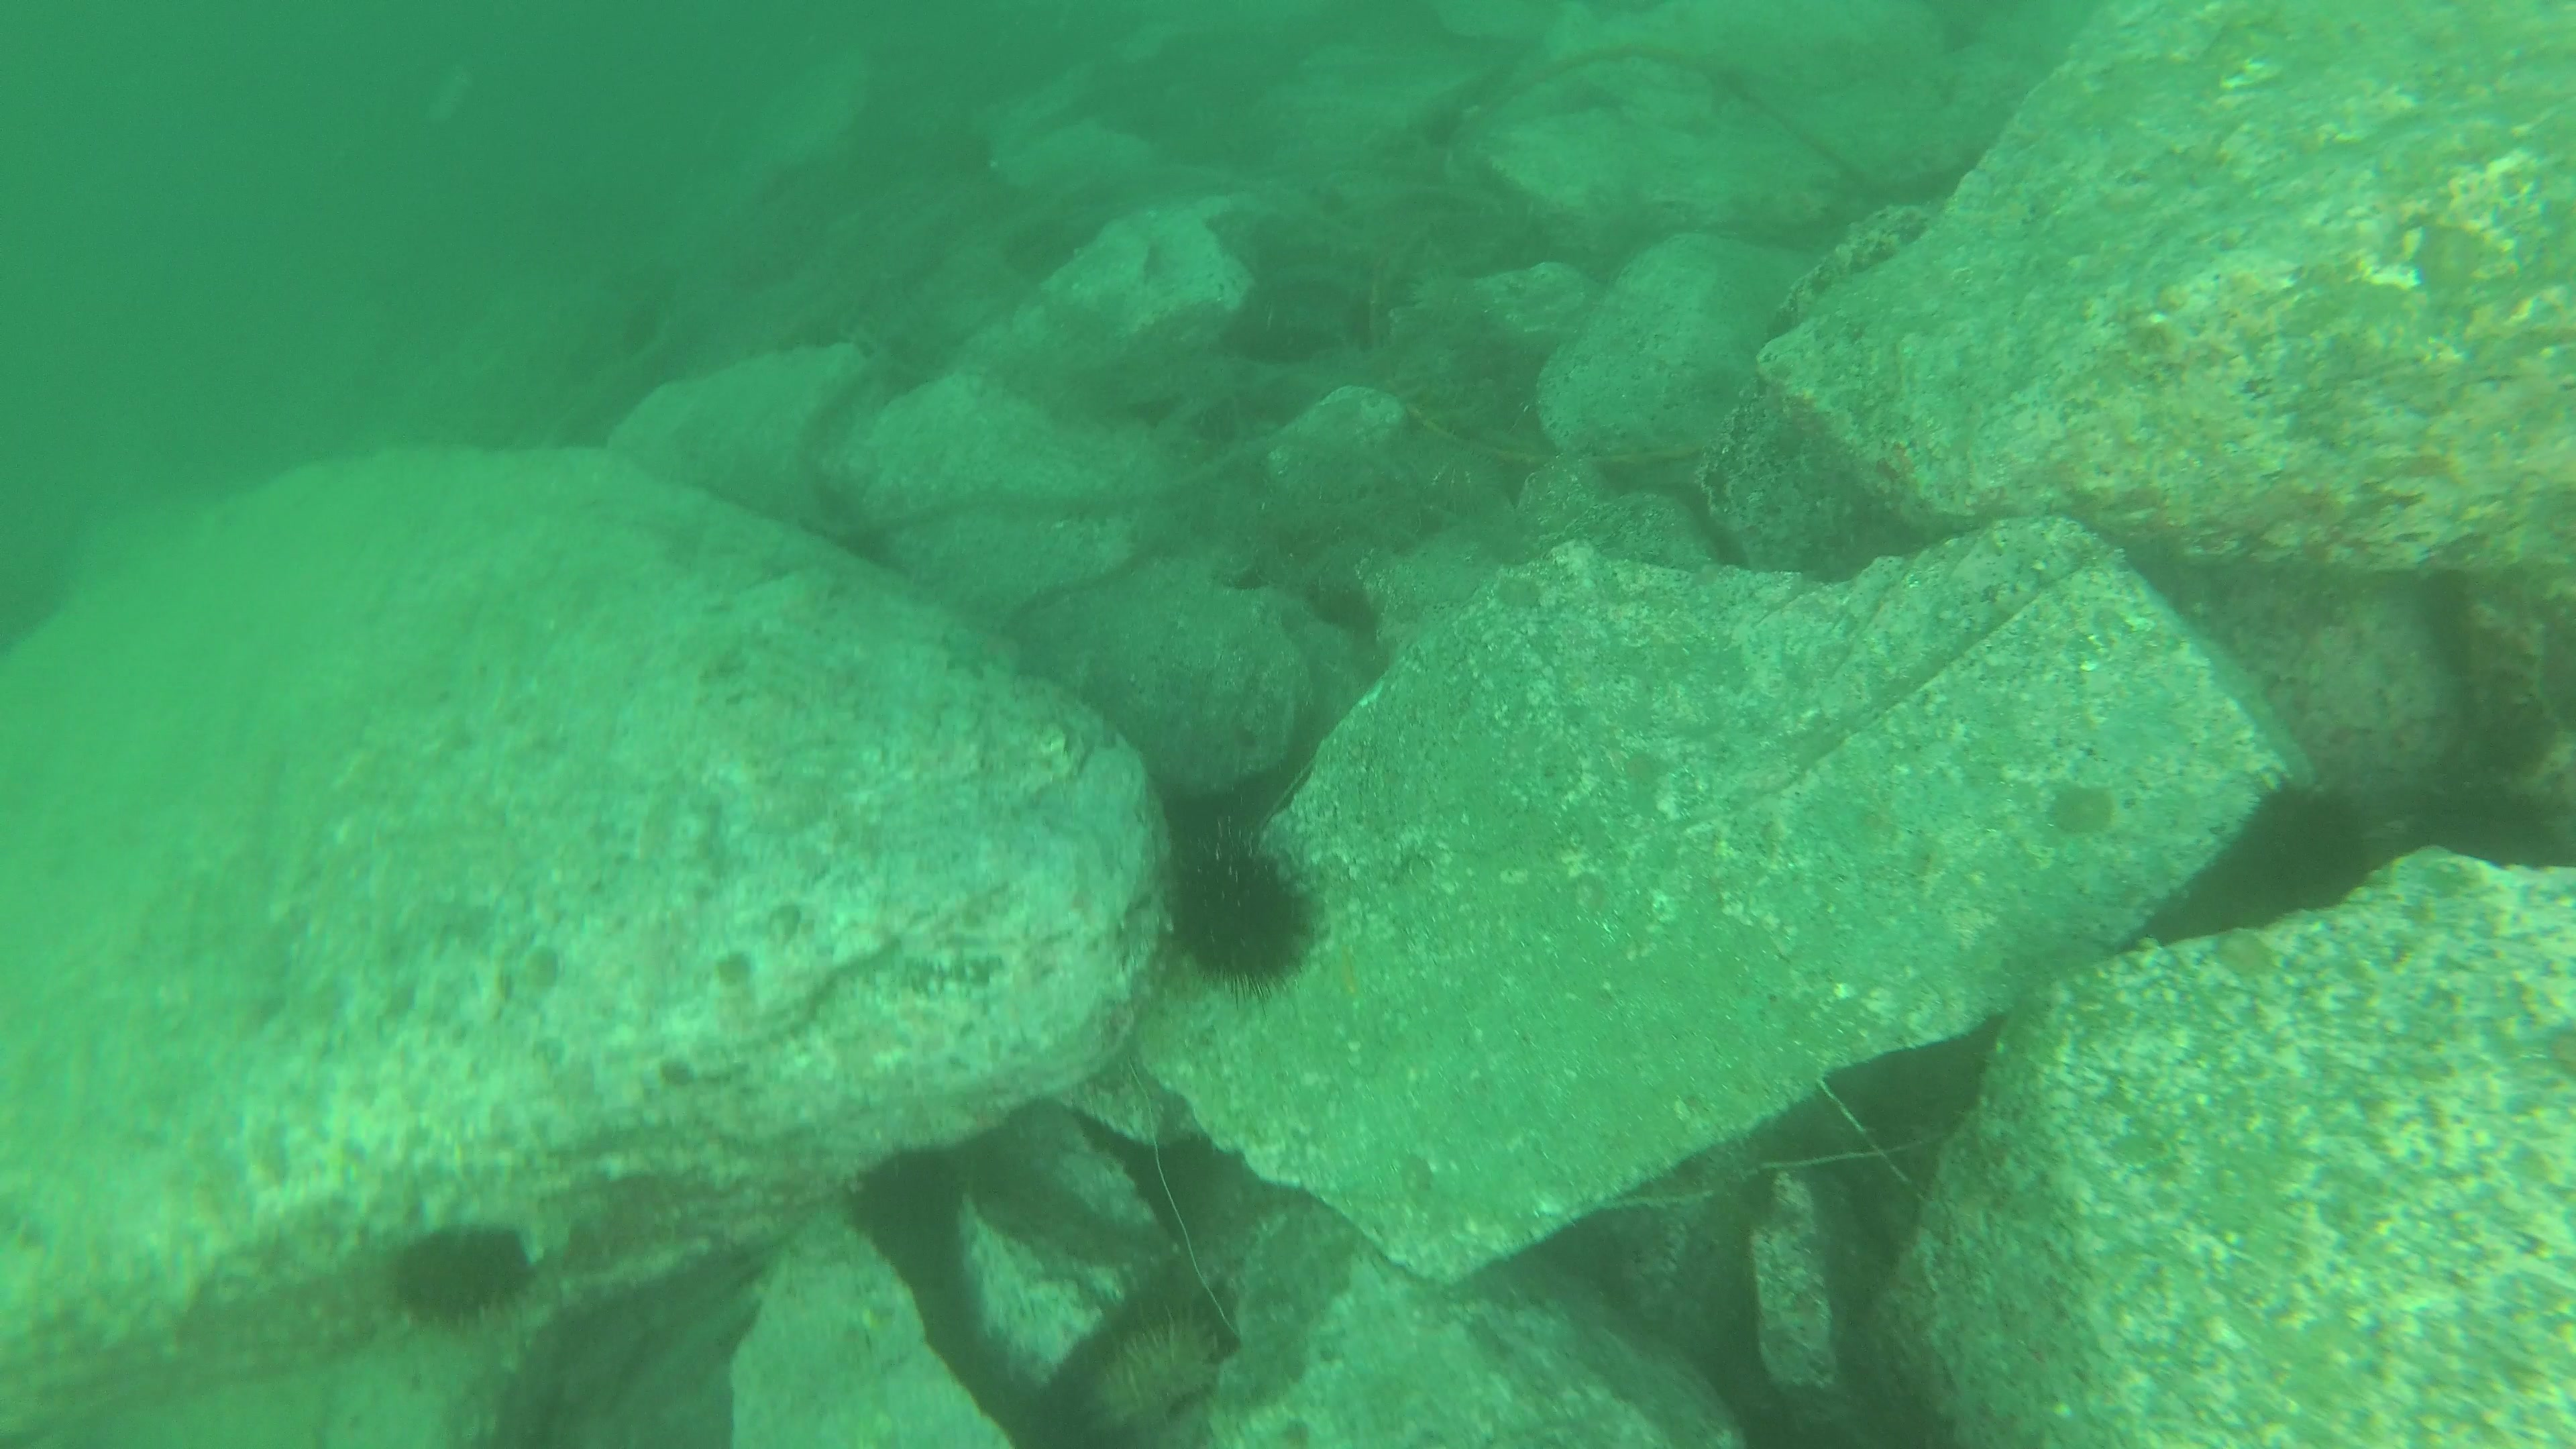echinus: (1171, 847, 1316, 989), (2247, 786, 2367, 899), (395, 1228, 527, 1323), (1100, 1315, 1219, 1419)
starfish: (938, 625, 994, 679)
